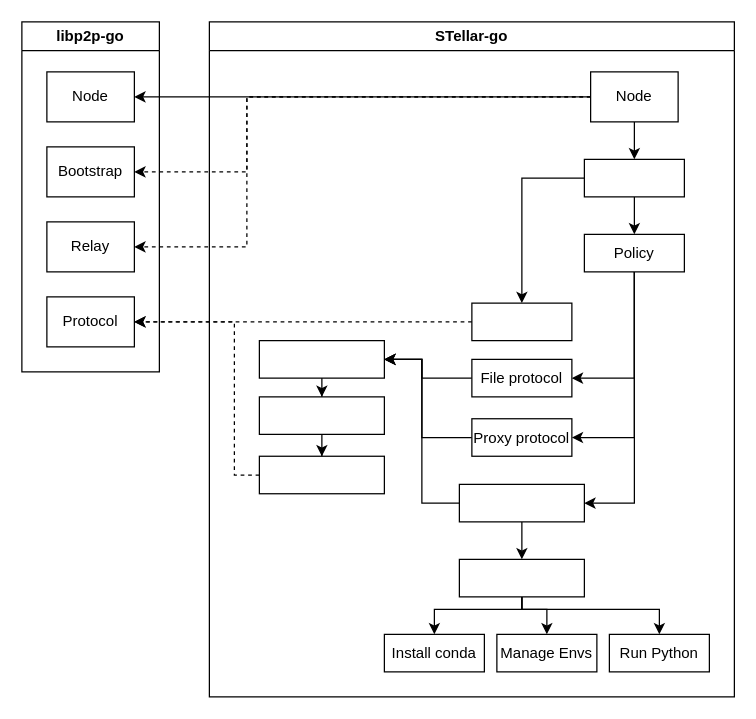
The diagram is 756 pixels wide and 719 high, and some of its shapes have lost their labels. Each missing label, with the centre of its shape:
"Compute protocol" belongs at pixel 521 502.
"Conda operations" belongs at pixel 521 577.
"Control Plane" belongs at pixel 321 415.
"Echo protocol" belongs at pixel 521 321.
"Multiplexer" belongs at pixel 321 474.
"Protocol Tunnel" belongs at pixel 321 358.
"Protocols" belongs at pixel 633 177.
